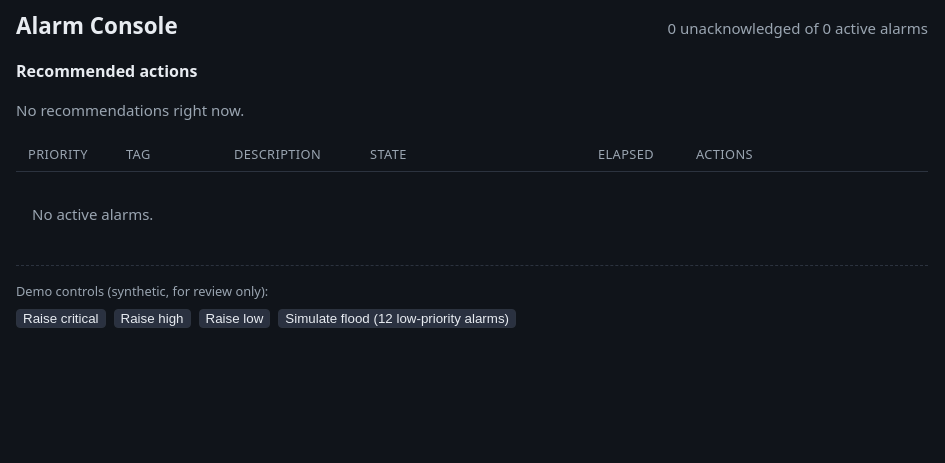
Scenario: AlarmConsole › acknowledging an alarm moves it out of the unacknowledged count
Click the button "Raise high" at (152, 319), box 114,309 -> 190,328
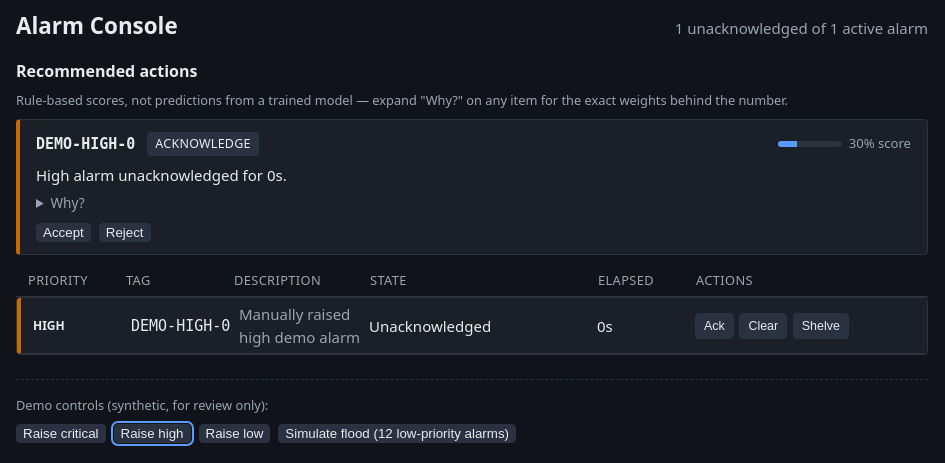
Click the button with aria-label "Acknowledge" at (714, 326), box 695,313 -> 734,339
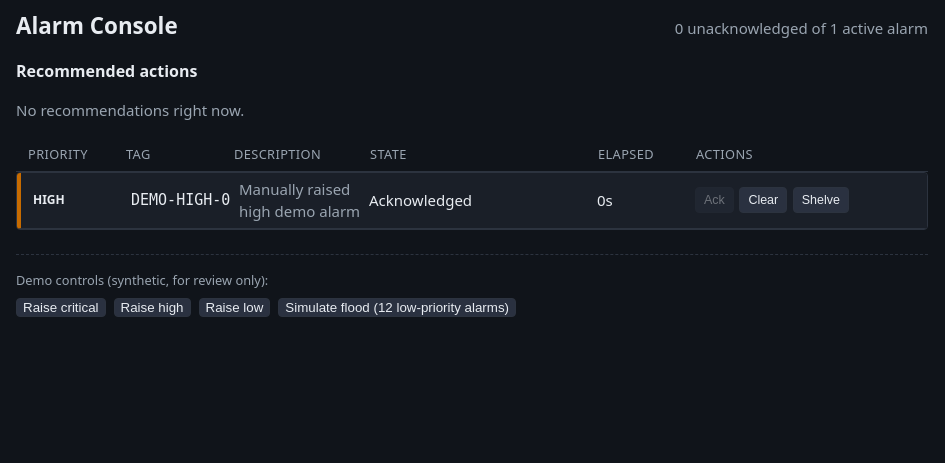
Check: the text "Acknowledged" is shown, box 369,190 -> 472,210
Check: the text "0 unacknowledged of 1 active alarm" is shown, box 675,17 -> 928,40
